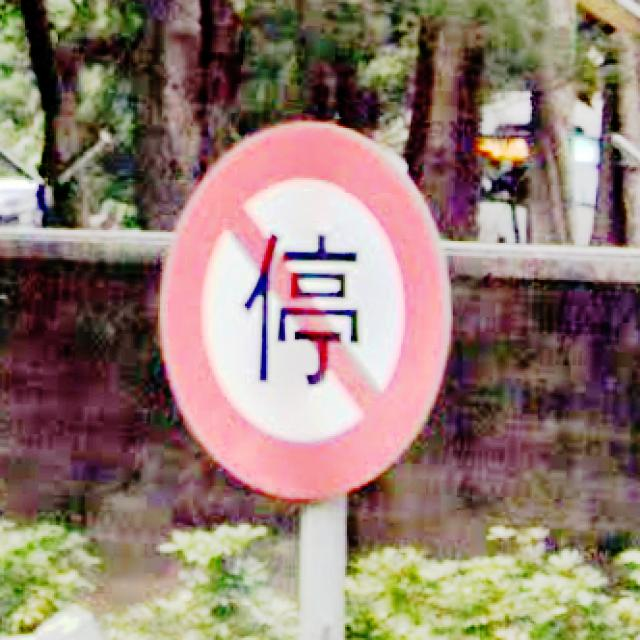nopark: (154, 115, 455, 501)
